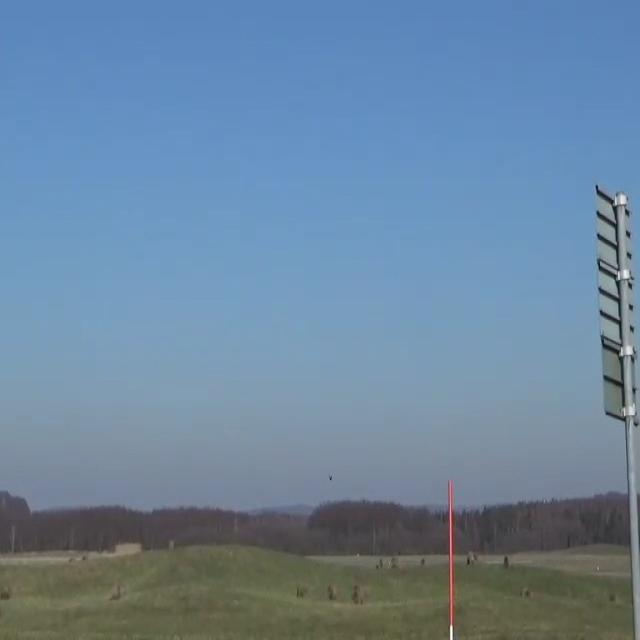bird: (326, 472, 335, 487)
